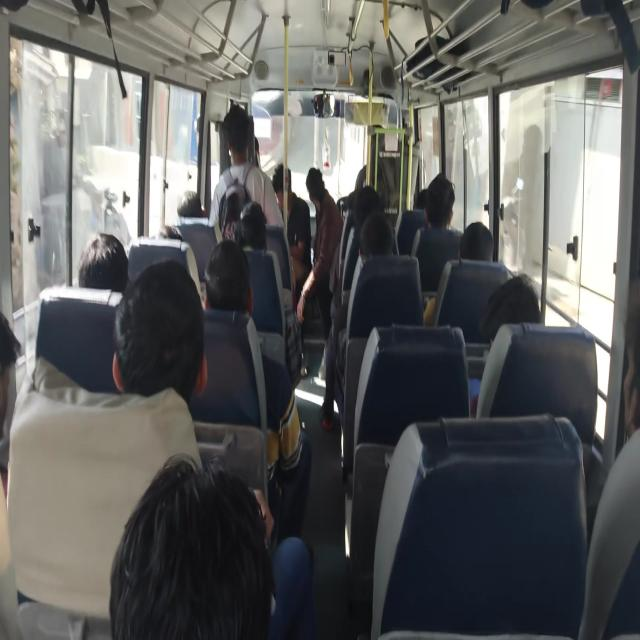person: (7, 258, 208, 634), (109, 452, 314, 639), (201, 240, 312, 540), (578, 278, 640, 638), (319, 210, 396, 432), (112, 258, 207, 406), (469, 272, 542, 418), (208, 103, 284, 242), (296, 166, 344, 380), (410, 173, 462, 323), (423, 220, 494, 326), (0, 311, 22, 638), (272, 163, 312, 291), (480, 272, 541, 346), (77, 232, 129, 292), (424, 173, 455, 230), (458, 221, 494, 261), (176, 188, 204, 218)
